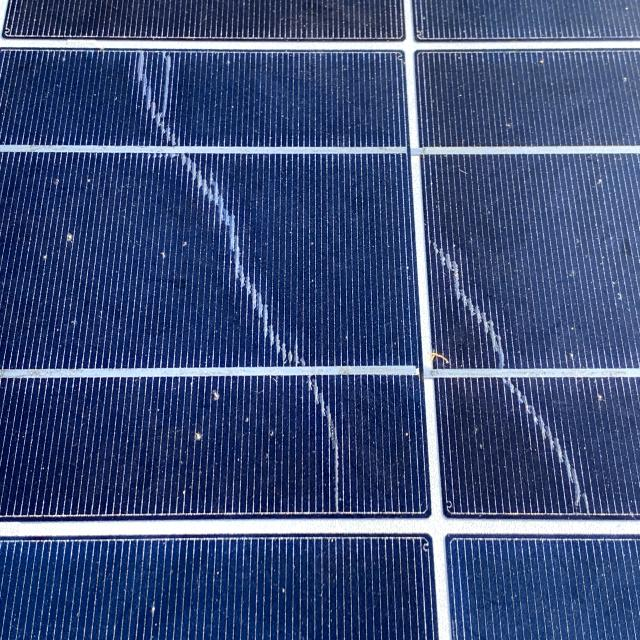shadow: (120, 47, 367, 500), (419, 221, 635, 528)
